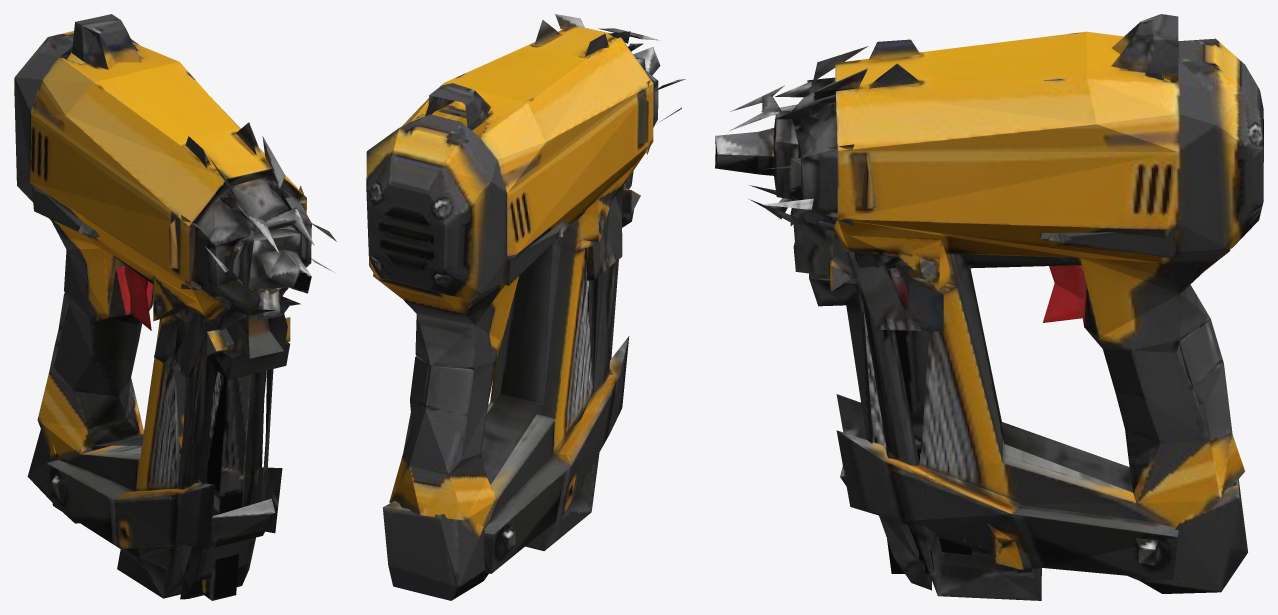
The model's file is Nailer2_TPS.fbx.
3 views of the same model, side by side, from view 1: azimuth 30°, elevation 25°; view 2: azimuth 150°, elevation 25°; view 3: azimuth 270°, elevation 25° (orthographic). The views are drawn at different scales.
Parts seen in each view (by area): view 1: Nailer2_World_LOD0; view 2: Nailer2_World_LOD0; view 3: Nailer2_World_LOD0.
Part boxes in pixels (bbox=[...]): Nailer2_World_LOD0: bbox=[14, 14, 336, 600]; Nailer2_World_LOD0: bbox=[366, 14, 685, 600]; Nailer2_World_LOD0: bbox=[715, 14, 1263, 600].
Size of the model in its own units: 28.92 by 99.51 by 89.26.
1 material, 1 textured.
